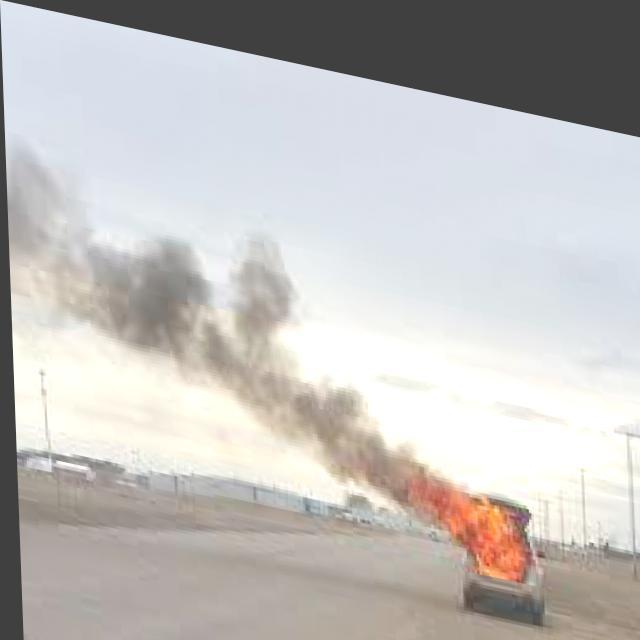Fire: (386, 437, 546, 585)
